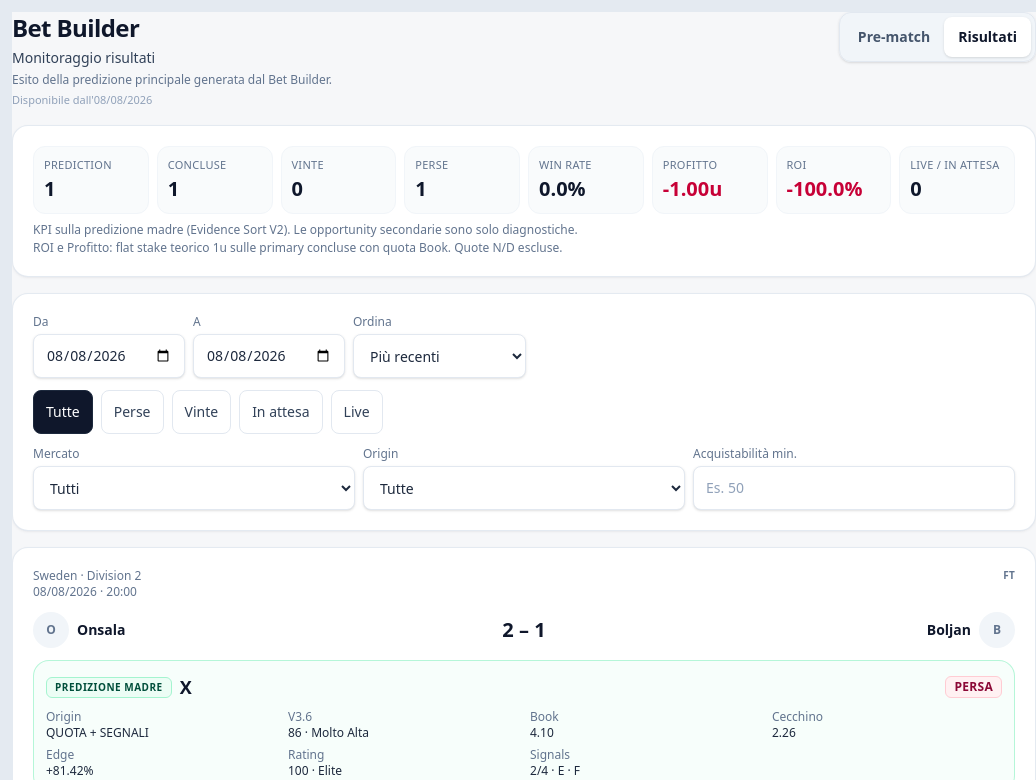
Test: BetBuilderPage Results BET-RESULTS-01 › BET-RESULTS-01.1 manual sort override respected
The width and height of the screenshot is (1036, 780).
Click the button with test id "results-outcome-pending" at (281, 412), box [239, 390, 323, 434]
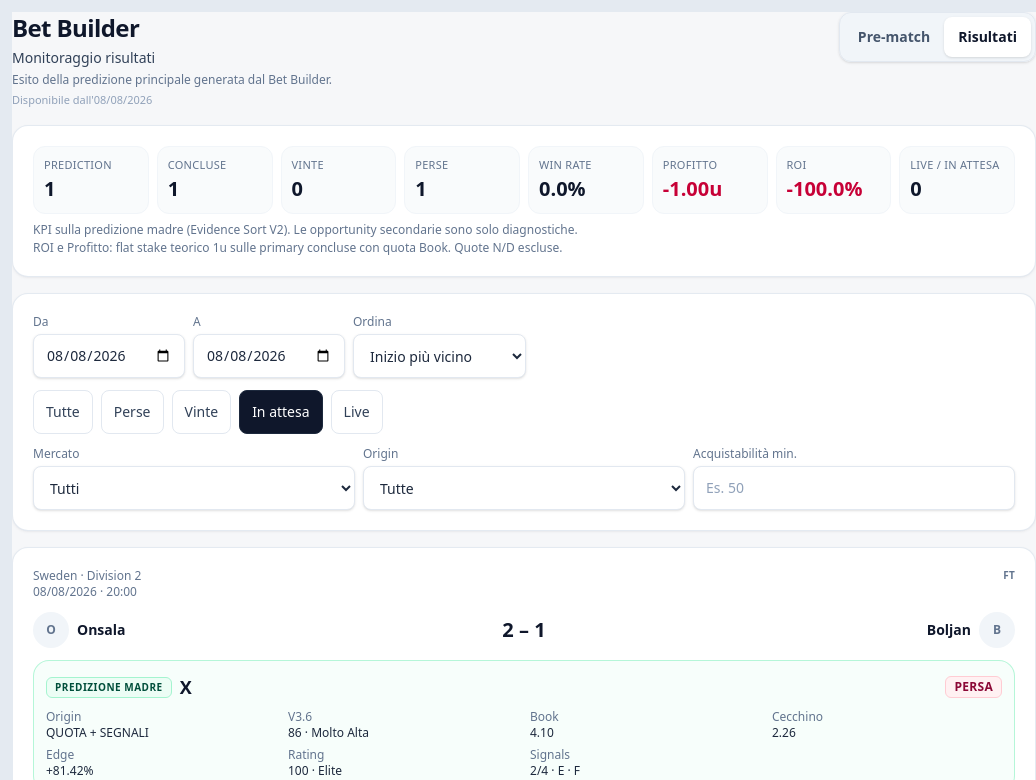
Select "Acquistabilità DESC" in the dropdown with test id "results-sort" at (440, 356), box [353, 334, 526, 378]
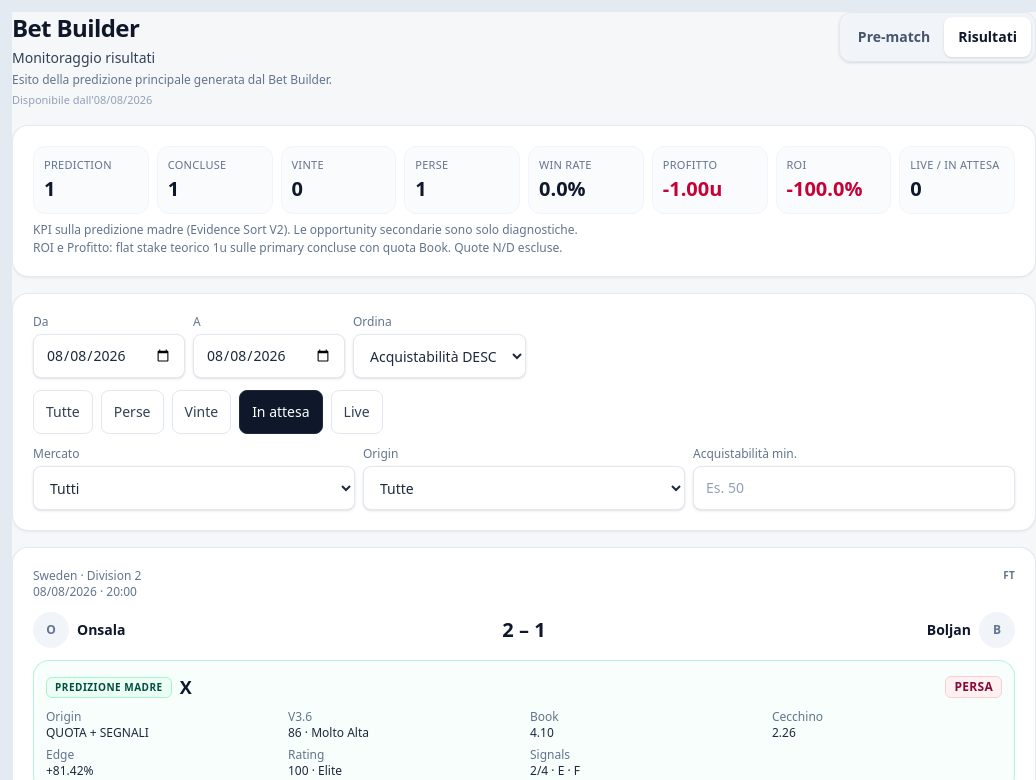
Result: the dropdown with test id "results-sort" shows "Acquistabilità DESC" at [353, 334, 526, 378]
